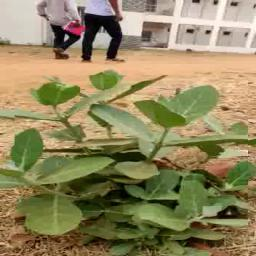CALOTROPIS: (15, 76, 249, 236)
